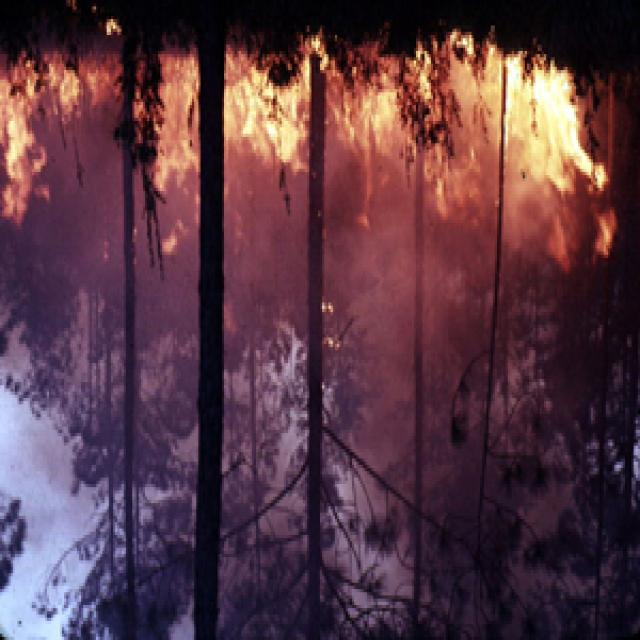fire: (8, 7, 640, 282)
